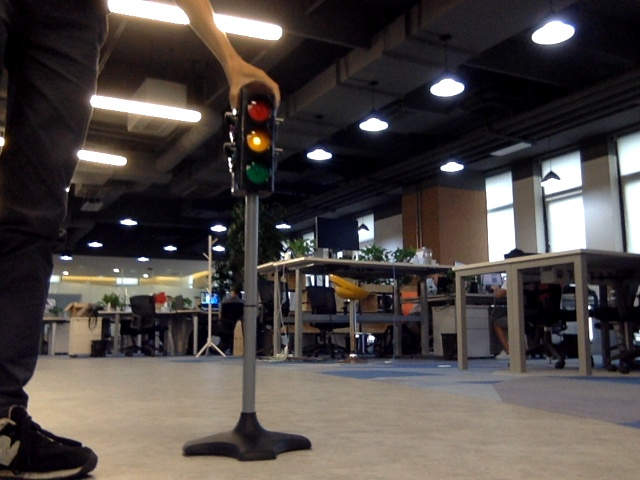yellow: (235, 97, 273, 190)
